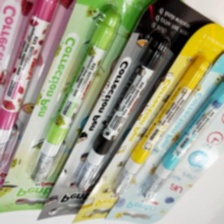book: (34, 0, 221, 223), (0, 0, 183, 216), (68, 20, 224, 223), (101, 38, 224, 223)
correction_fluid: (27, 5, 122, 186), (69, 31, 171, 193), (106, 52, 211, 198), (0, 0, 68, 178), (137, 70, 224, 201)
